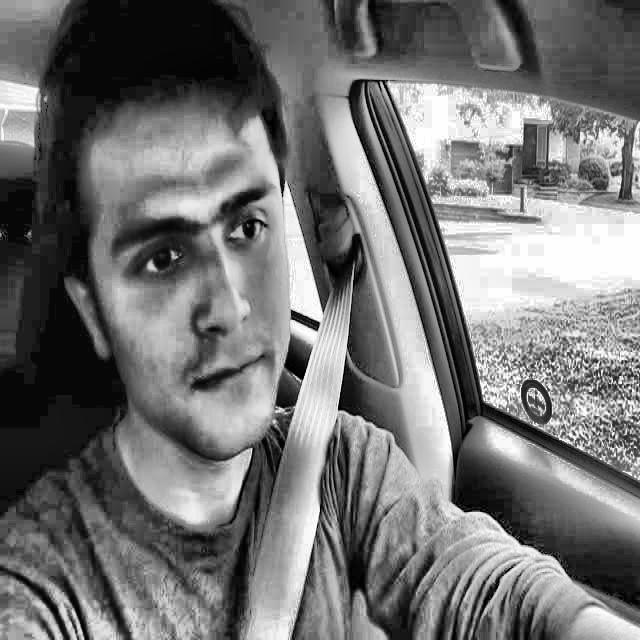closed_mouth: (165, 336, 291, 409)
open_eyes: (124, 233, 202, 286), (214, 199, 286, 256)
